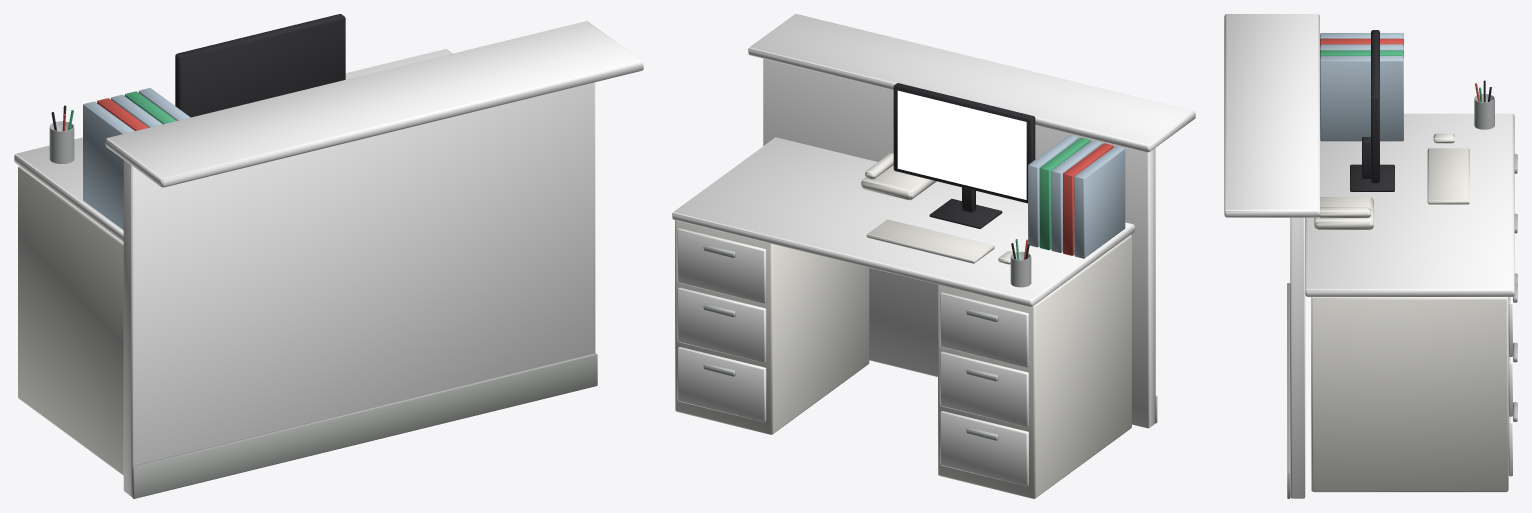
Rendered from Ward_Nurse.fbx.
3 renders of one model, left to right at view 1: azimuth 30°, elevation 25°; view 2: azimuth 150°, elevation 25°; view 3: azimuth 270°, elevation 25°, orthographic. The views are drawn at different scales.
Visible parts, largest first — view 1: Ward_Nurse; view 2: Ward_Nurse; view 3: Ward_Nurse.
Part boxes in pixels (bbox=[...]): Ward_Nurse: bbox=[14, 14, 643, 498]; Ward_Nurse: bbox=[672, 14, 1195, 498]; Ward_Nurse: bbox=[1224, 14, 1517, 498].
Size of the model in its own units: 1.56 by 1.18 by 0.98.
